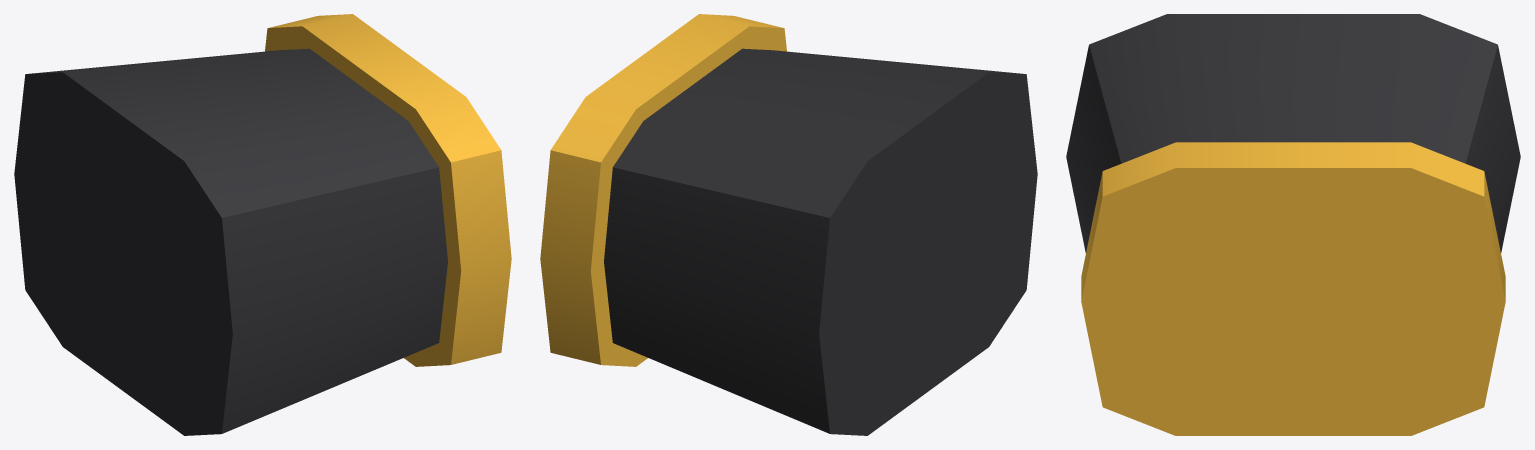
Rendered from stalk_lod1.glb.
3 views of the same model, side by side, from view 1: azimuth 30°, elevation 25°; view 2: azimuth 150°, elevation 25°; view 3: azimuth 270°, elevation 25° (orthographic). The views are drawn at different scales.
Visible parts, largest first — view 1: stalk_lod1; view 2: stalk_lod1; view 3: stalk_lod1.
Part boxes in pixels (x1,y1,x2,y2): stalk_lod1: [14, 14, 511, 435]; stalk_lod1: [540, 14, 1037, 435]; stalk_lod1: [1066, 14, 1520, 435].
Bounding box in the file's own units: 0.034 × 0.0312 × 0.045.
